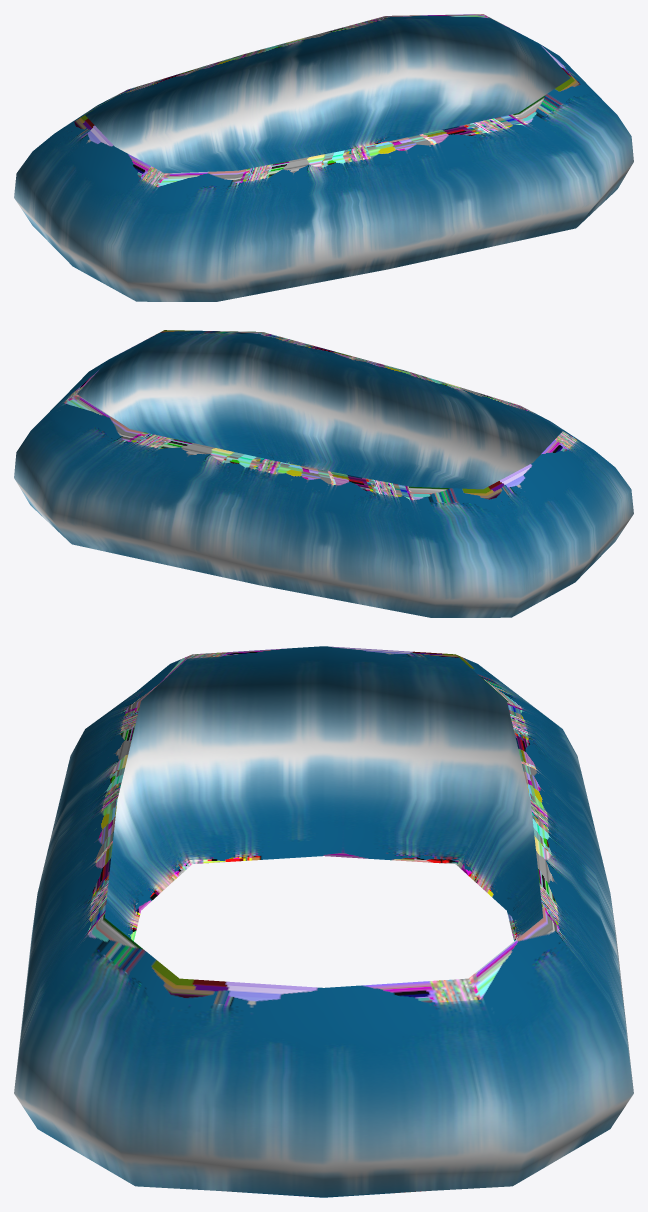
File: light_unit_regenerating.obj
3 renders of one model, top to bottom at view 1: azimuth 30°, elevation 25°; view 2: azimuth 150°, elevation 25°; view 3: azimuth 270°, elevation 25°, orthographic. The views are drawn at different scales.
Parts seen in each view (by area): view 1: pSphere3; view 2: pSphere3; view 3: pSphere3.
Boxes of the visible parts, box(x1,y1,x2,y2) form: pSphere3: box(14, 14, 633, 301); pSphere3: box(14, 330, 633, 617); pSphere3: box(14, 646, 633, 1197).
Size of the model in its own units: 36.76 by 8.46 by 22.65.
1 material, 1 textured.
